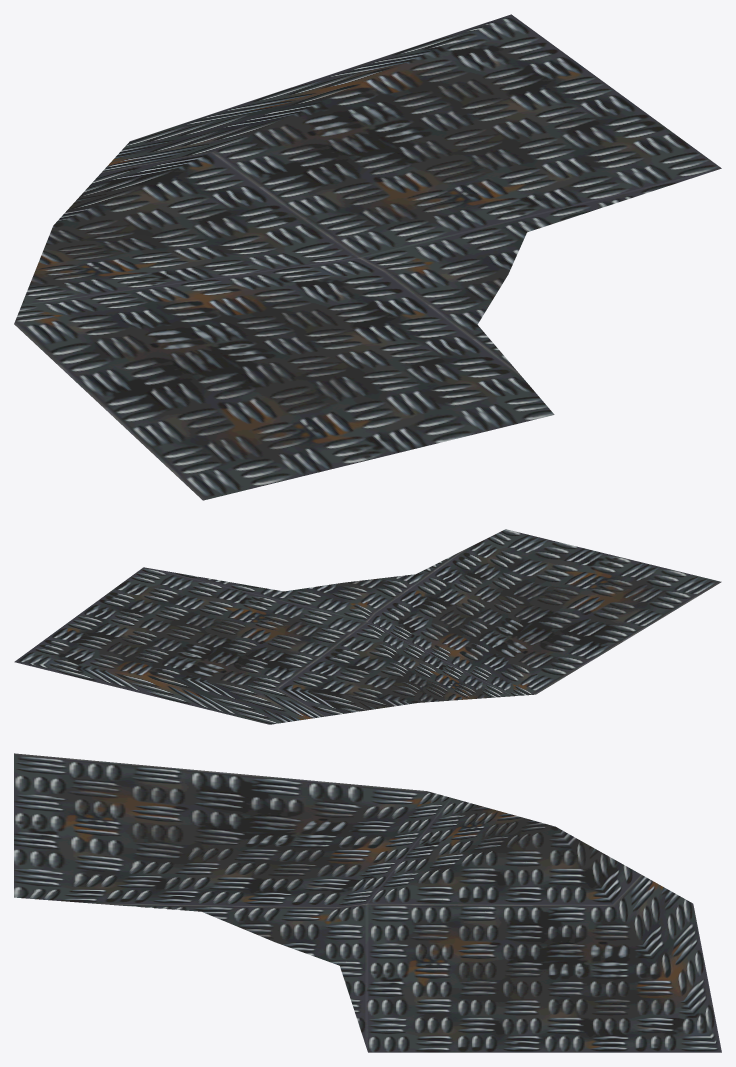
File: Ministerium_BodenRundung [Blech_ministry]_2914.glb
3 views of the same model, one above another, from view 1: azimuth 30°, elevation 25°; view 2: azimuth 150°, elevation 25°; view 3: azimuth 270°, elevation 25° (orthographic). The views are drawn at different scales.
Visible parts, largest first — view 1: polySurfaceShape1018; view 2: polySurfaceShape1018; view 3: polySurfaceShape1018.
Boxes of the visible parts, x1=… form: polySurfaceShape1018: x1=14, y1=14, x2=721, y2=500; polySurfaceShape1018: x1=14, y1=529, x2=721, y2=724; polySurfaceShape1018: x1=14, y1=753, x2=721, y2=1052.
Size of the model in its own units: 0.5 by 0.0113 by 0.5.
Materials: 1 (1 with a texture image).
